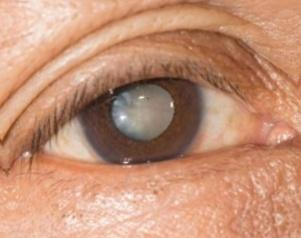eye: (93, 76, 198, 160)
